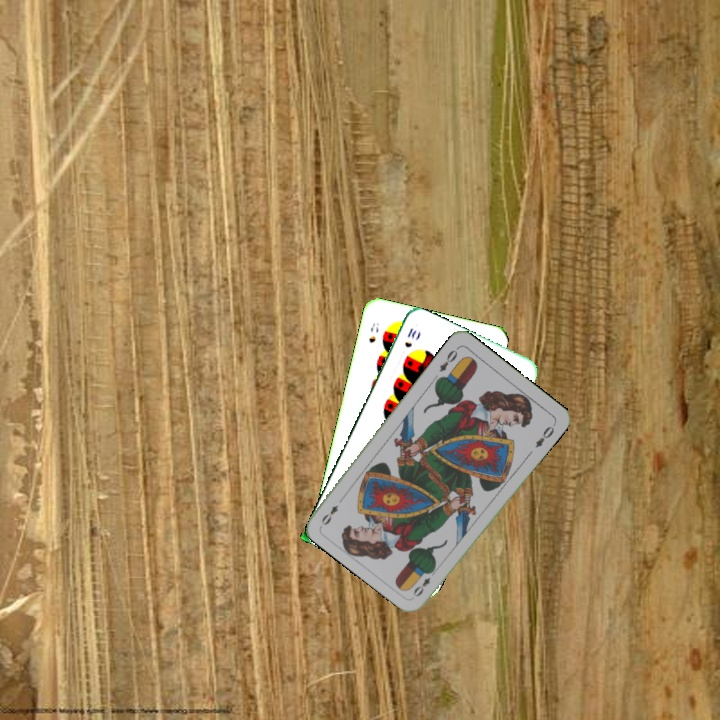EO: (409, 565, 439, 600), (435, 343, 462, 375)
S10: (401, 324, 419, 350)
S8: (365, 319, 381, 345)
